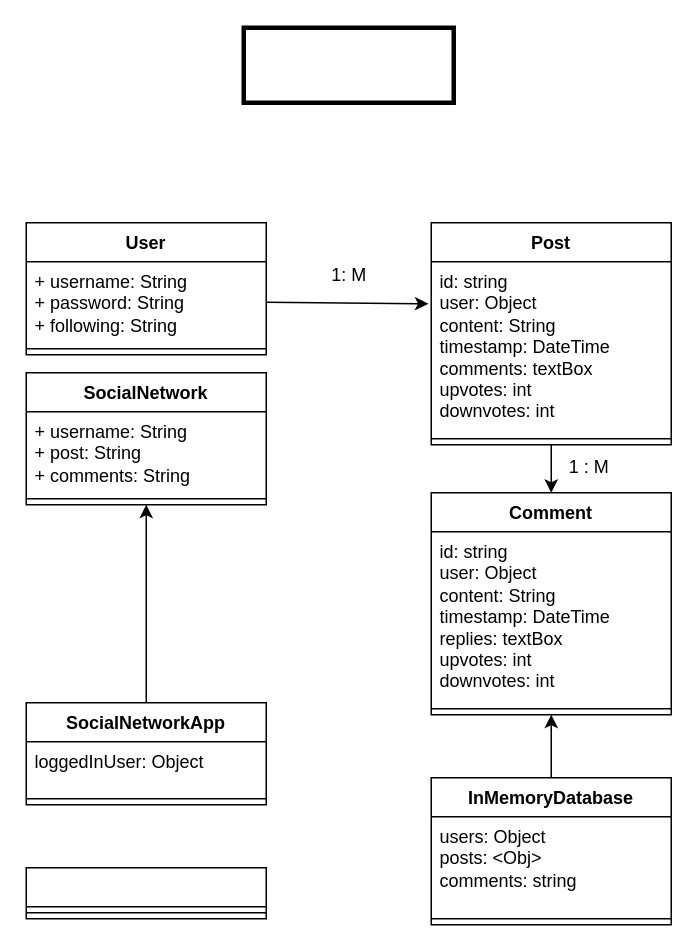
Image size: 698x951. Some labels were removed from this diagram. Each missing label, with the centre of its shape:
Flipkart Class_Diagram: pixel 348 64
TimeFormatter: pixel 145 892
